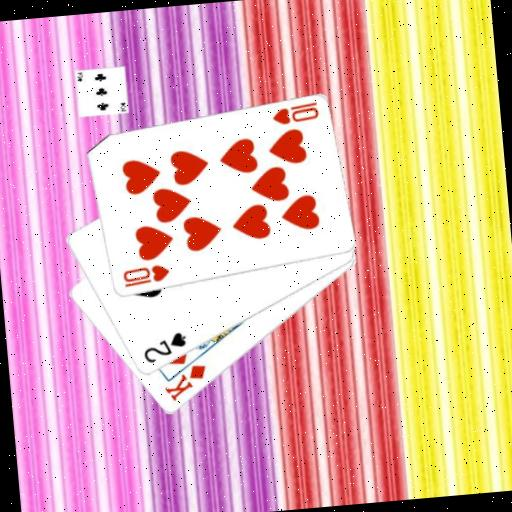10H: (268, 99, 321, 128), (120, 261, 172, 290)
2S: (139, 329, 190, 367)
KD: (159, 361, 211, 404)
